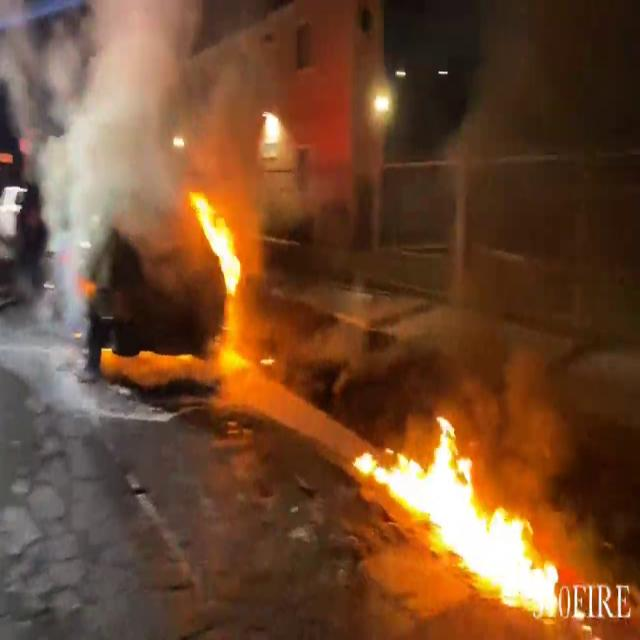Fire: (356, 408, 576, 619), (185, 183, 253, 312)
Smoke: (18, 0, 354, 227)
